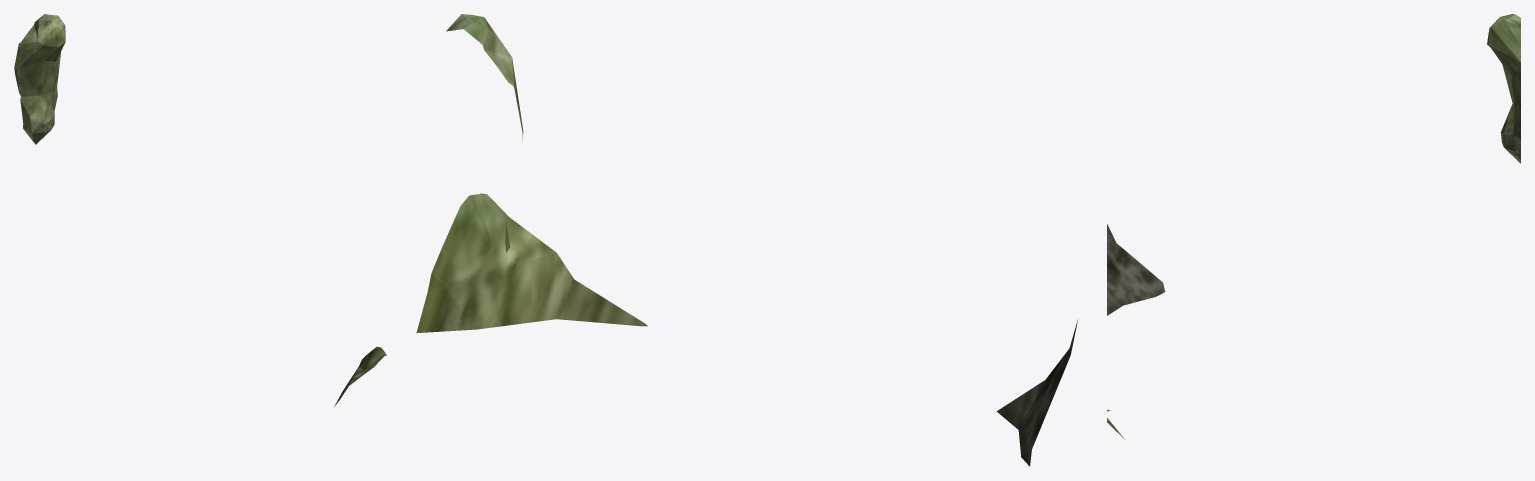
The picture shows the model from 3 angles, left to right: view 1: azimuth 30°, elevation 25°; view 2: azimuth 150°, elevation 25°; view 3: azimuth 270°, elevation 25°; orthographic projection. The views are drawn at different scales.
Bounding box in the file's own units: 2.95 × 2.8 × 2.95.
1 material, 1 textured.
